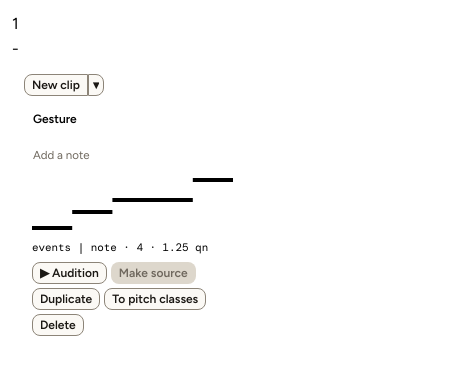
Test case: DeskView pitch-class conversion › converts straight away when every pitch is on the project EDO grid
Click the button "To pitch classes": (155, 299) top-left (104, 288), bottom-right (206, 310)
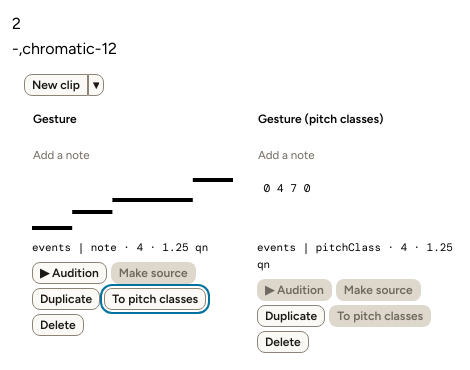
Expected: the text with test id "count" reads "2", top-left (12, 14), bottom-right (21, 33)
